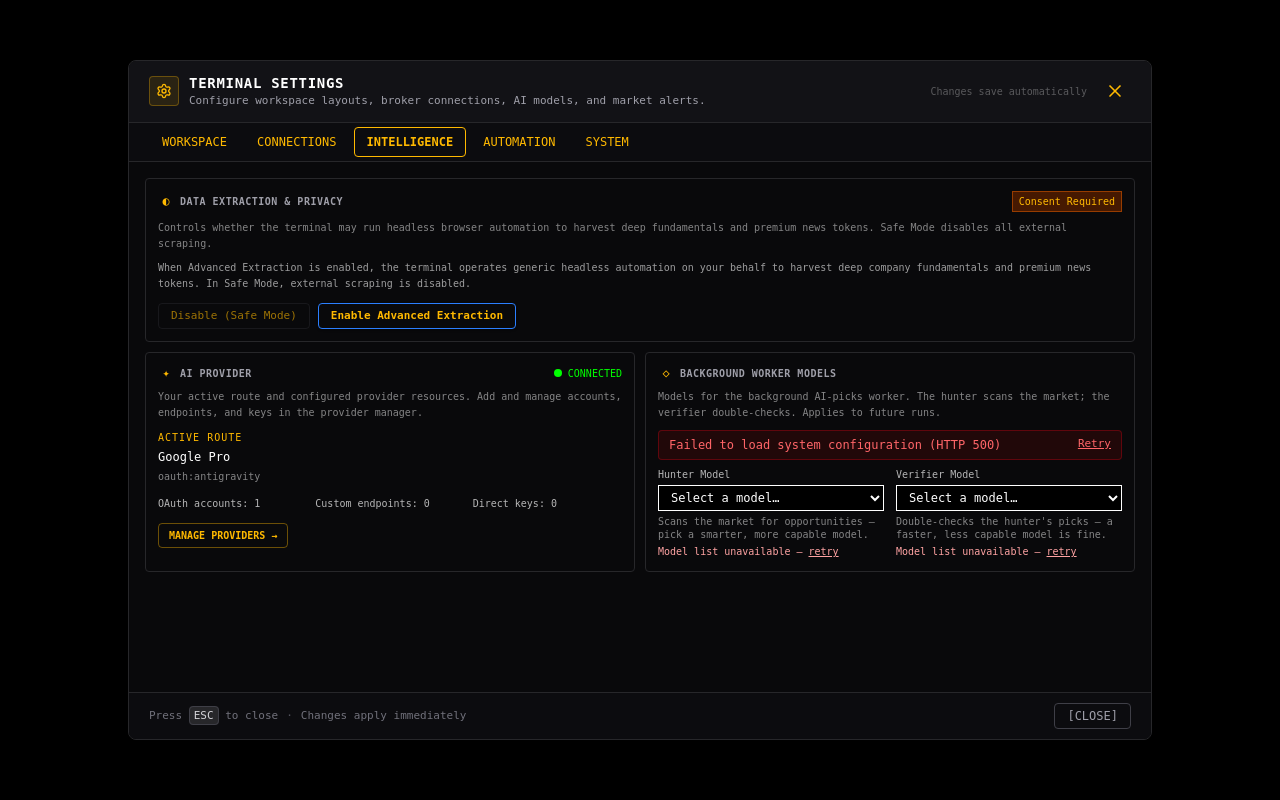
SettingsModal system-config hydration and model persistence › preserves current model values, exposes error and visible retry button on load failure, and recovers on retry
Expected: the message "Failed to load system configuration (HTTP 500) Retry" is shown, [658, 430, 1122, 460]
Expected: the dropdown labelled "Hunter Model" is shown, [658, 485, 884, 511]
Click the button "Retry" at (1094, 445), box [1078, 437, 1111, 452]
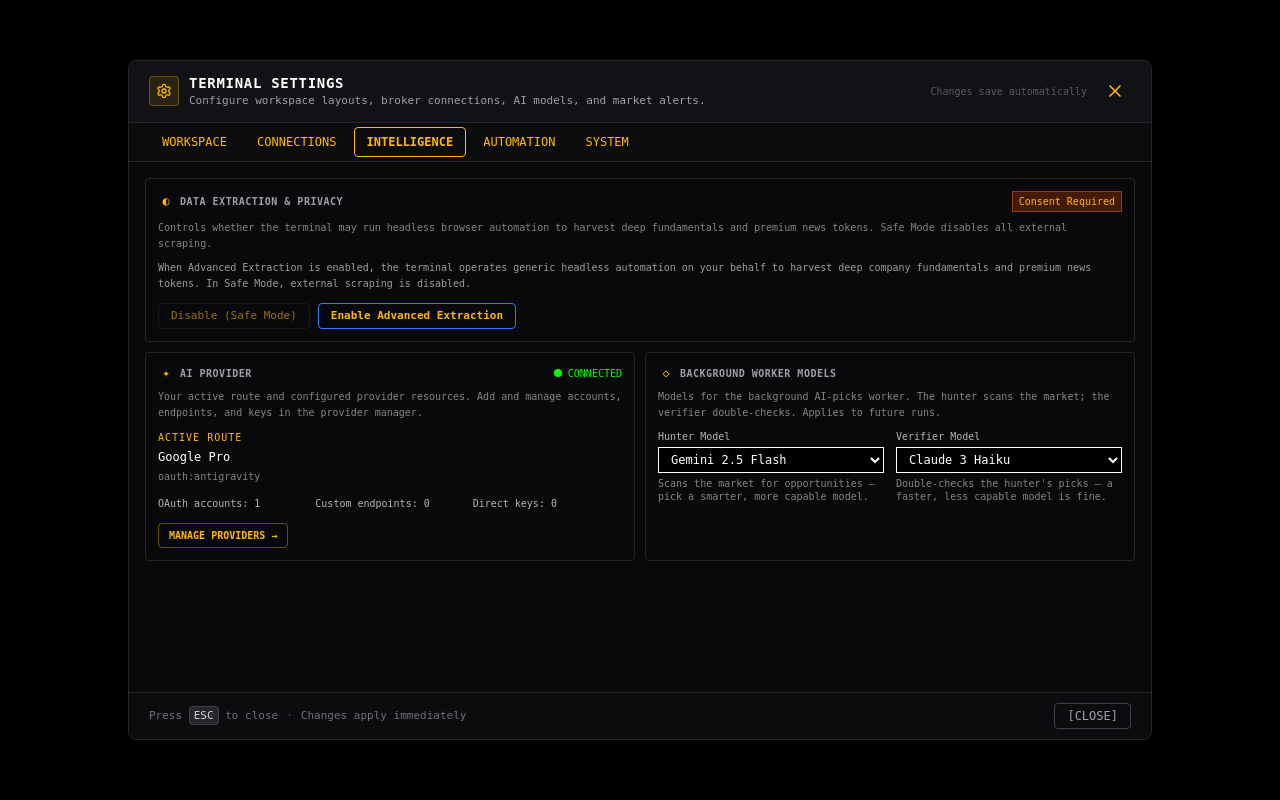
Result: the dropdown labelled "Hunter Model" shows "Gemini 2.5 Flash" at [658, 447, 884, 473]
